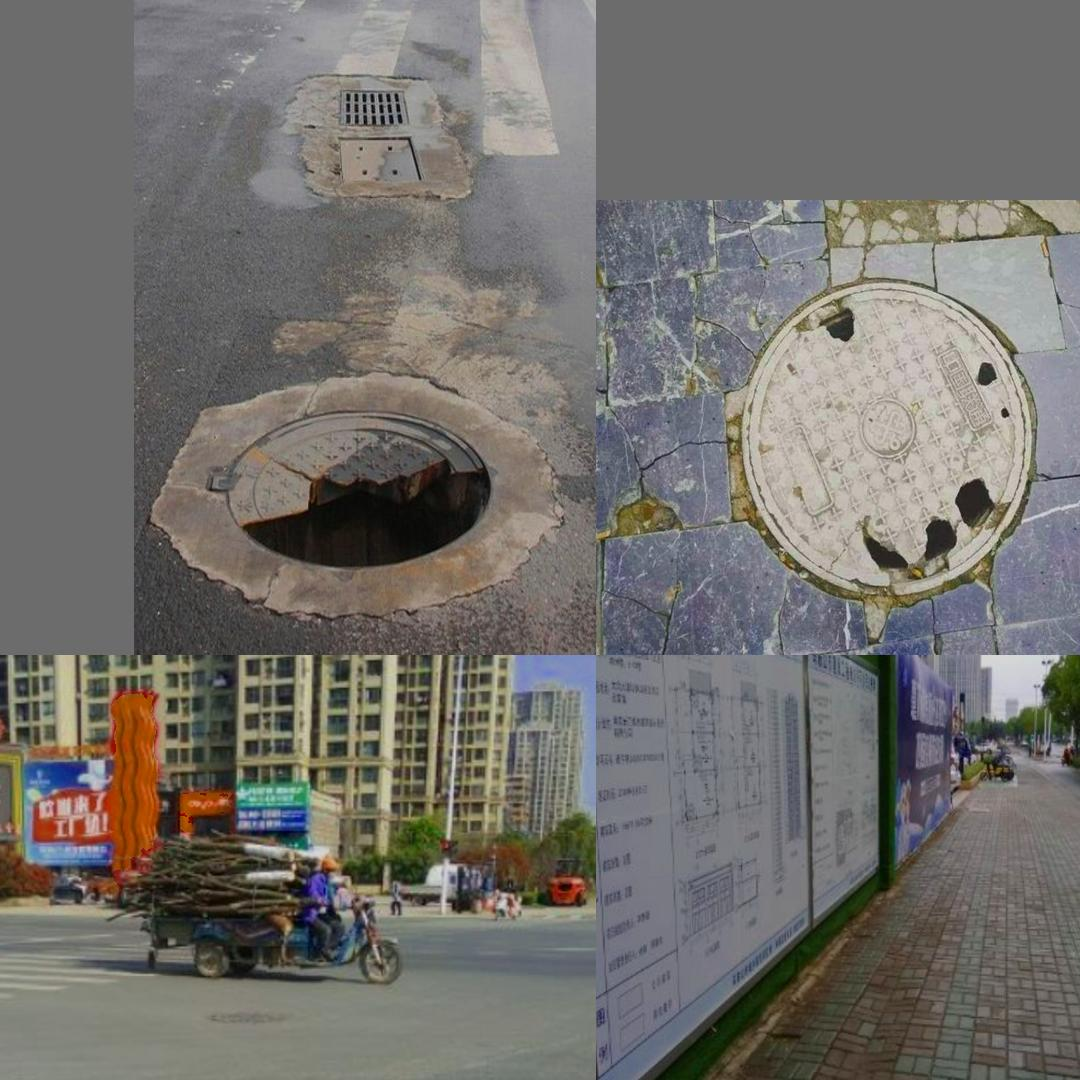broke: (163, 338, 553, 629), (741, 282, 1032, 597)
